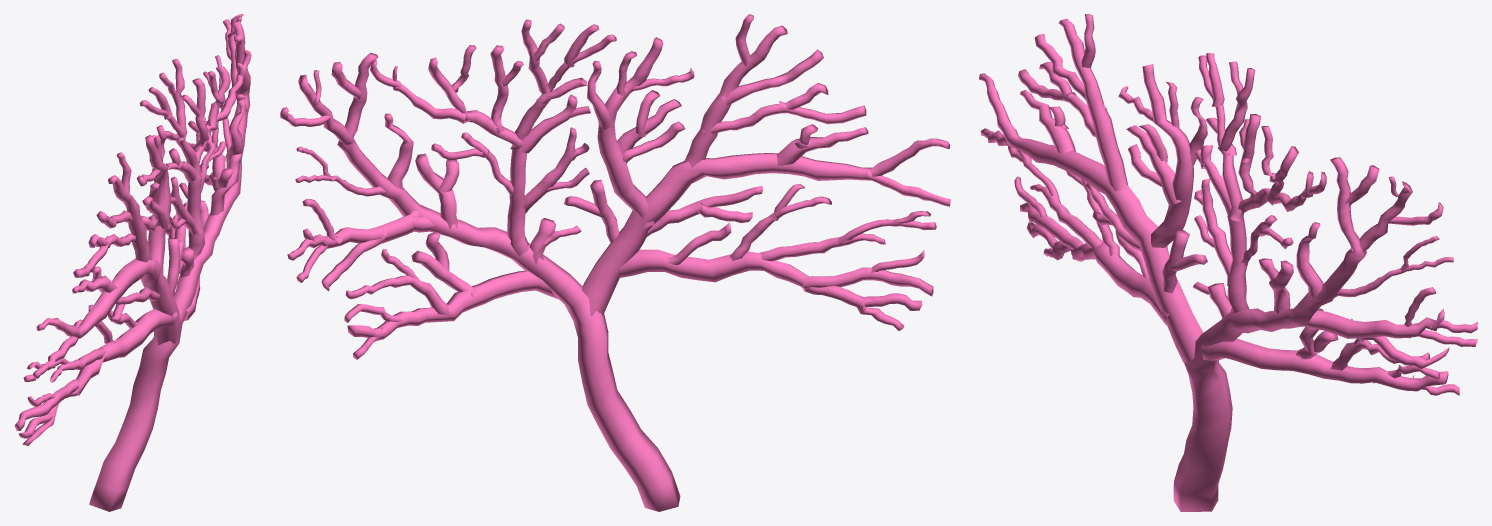
Rendered from Coral-Fan-pink-GB.fbx.
3 views of the same model, side by side, from view 1: azimuth 30°, elevation 25°; view 2: azimuth 150°, elevation 25°; view 3: azimuth 270°, elevation 25° (orthographic). The views are drawn at different scales.
Parts seen in each view (by area): view 1: mesh1533979519; view 2: mesh1533979519; view 3: mesh1533979519.
Part boxes in pixels (left/top/right/bottom): mesh1533979519: left=14, top=14, right=251, bottom=511; mesh1533979519: left=280, top=14, right=950, bottom=511; mesh1533979519: left=979, top=14, right=1477, bottom=511.
Bounding box in the file's own units: 188 × 189 × 174.
